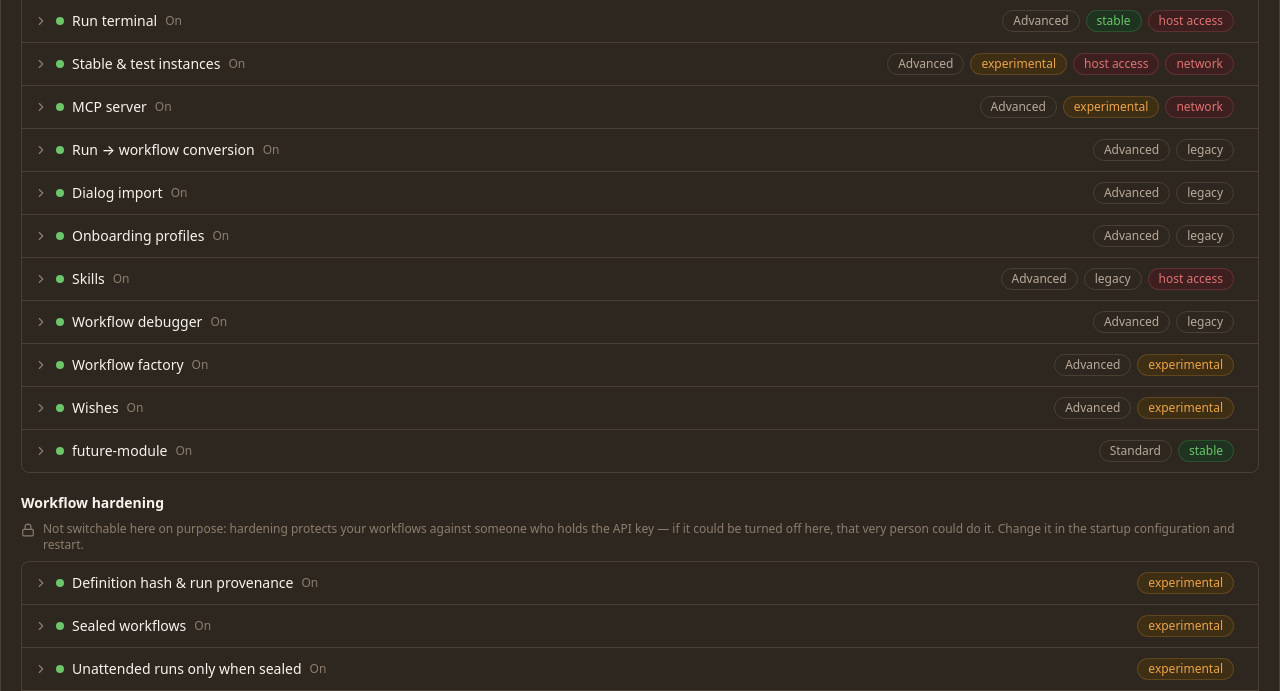
it: ModulesCard › falls back to the backend description for a module this build does not know
(page scrolled)
Step 1. Click the button "future-module On Standard stable" → (120, 450), box [22,430,1246,472]
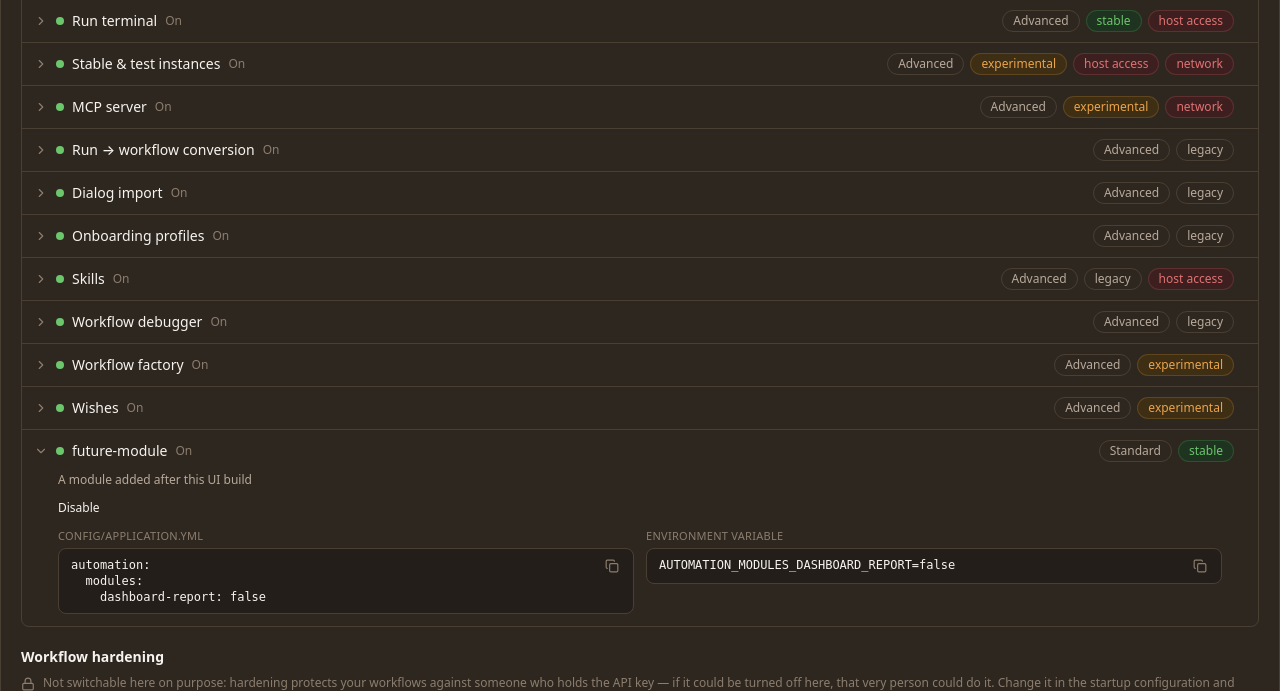
Now the text "A module added after this UI build" is shown, box [58,470,252,488]
